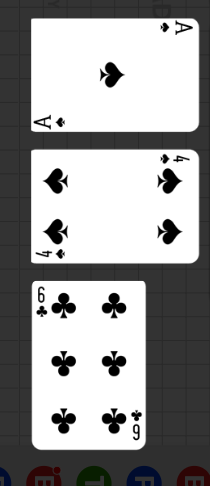4S: (34, 247, 67, 260)
6C: (129, 407, 143, 442)
AS: (156, 20, 194, 38)
